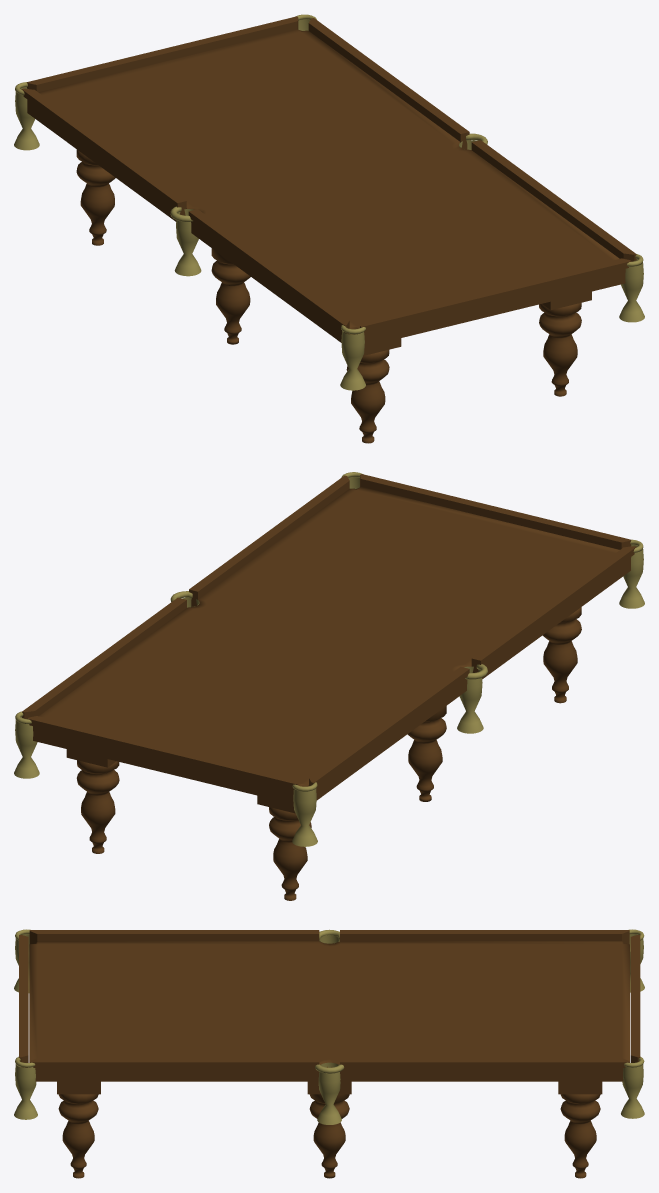
The model's file is pool_table.fbx.
3 renders of one model, top to bottom at view 1: azimuth 30°, elevation 25°; view 2: azimuth 150°, elevation 25°; view 3: azimuth 270°, elevation 25°, orthographic. The views are drawn at different scales.
Parts seen in each view (by area): view 1: Окружность; view 2: Окружность; view 3: Окружность.
Part boxes in pixels (x1,y1,x2,y2): Окружность: (14, 14, 644, 443); Окружность: (14, 472, 644, 900); Окружность: (14, 929, 644, 1178).
Bounding box in the file's own units: 203 × 90.96 × 381.
